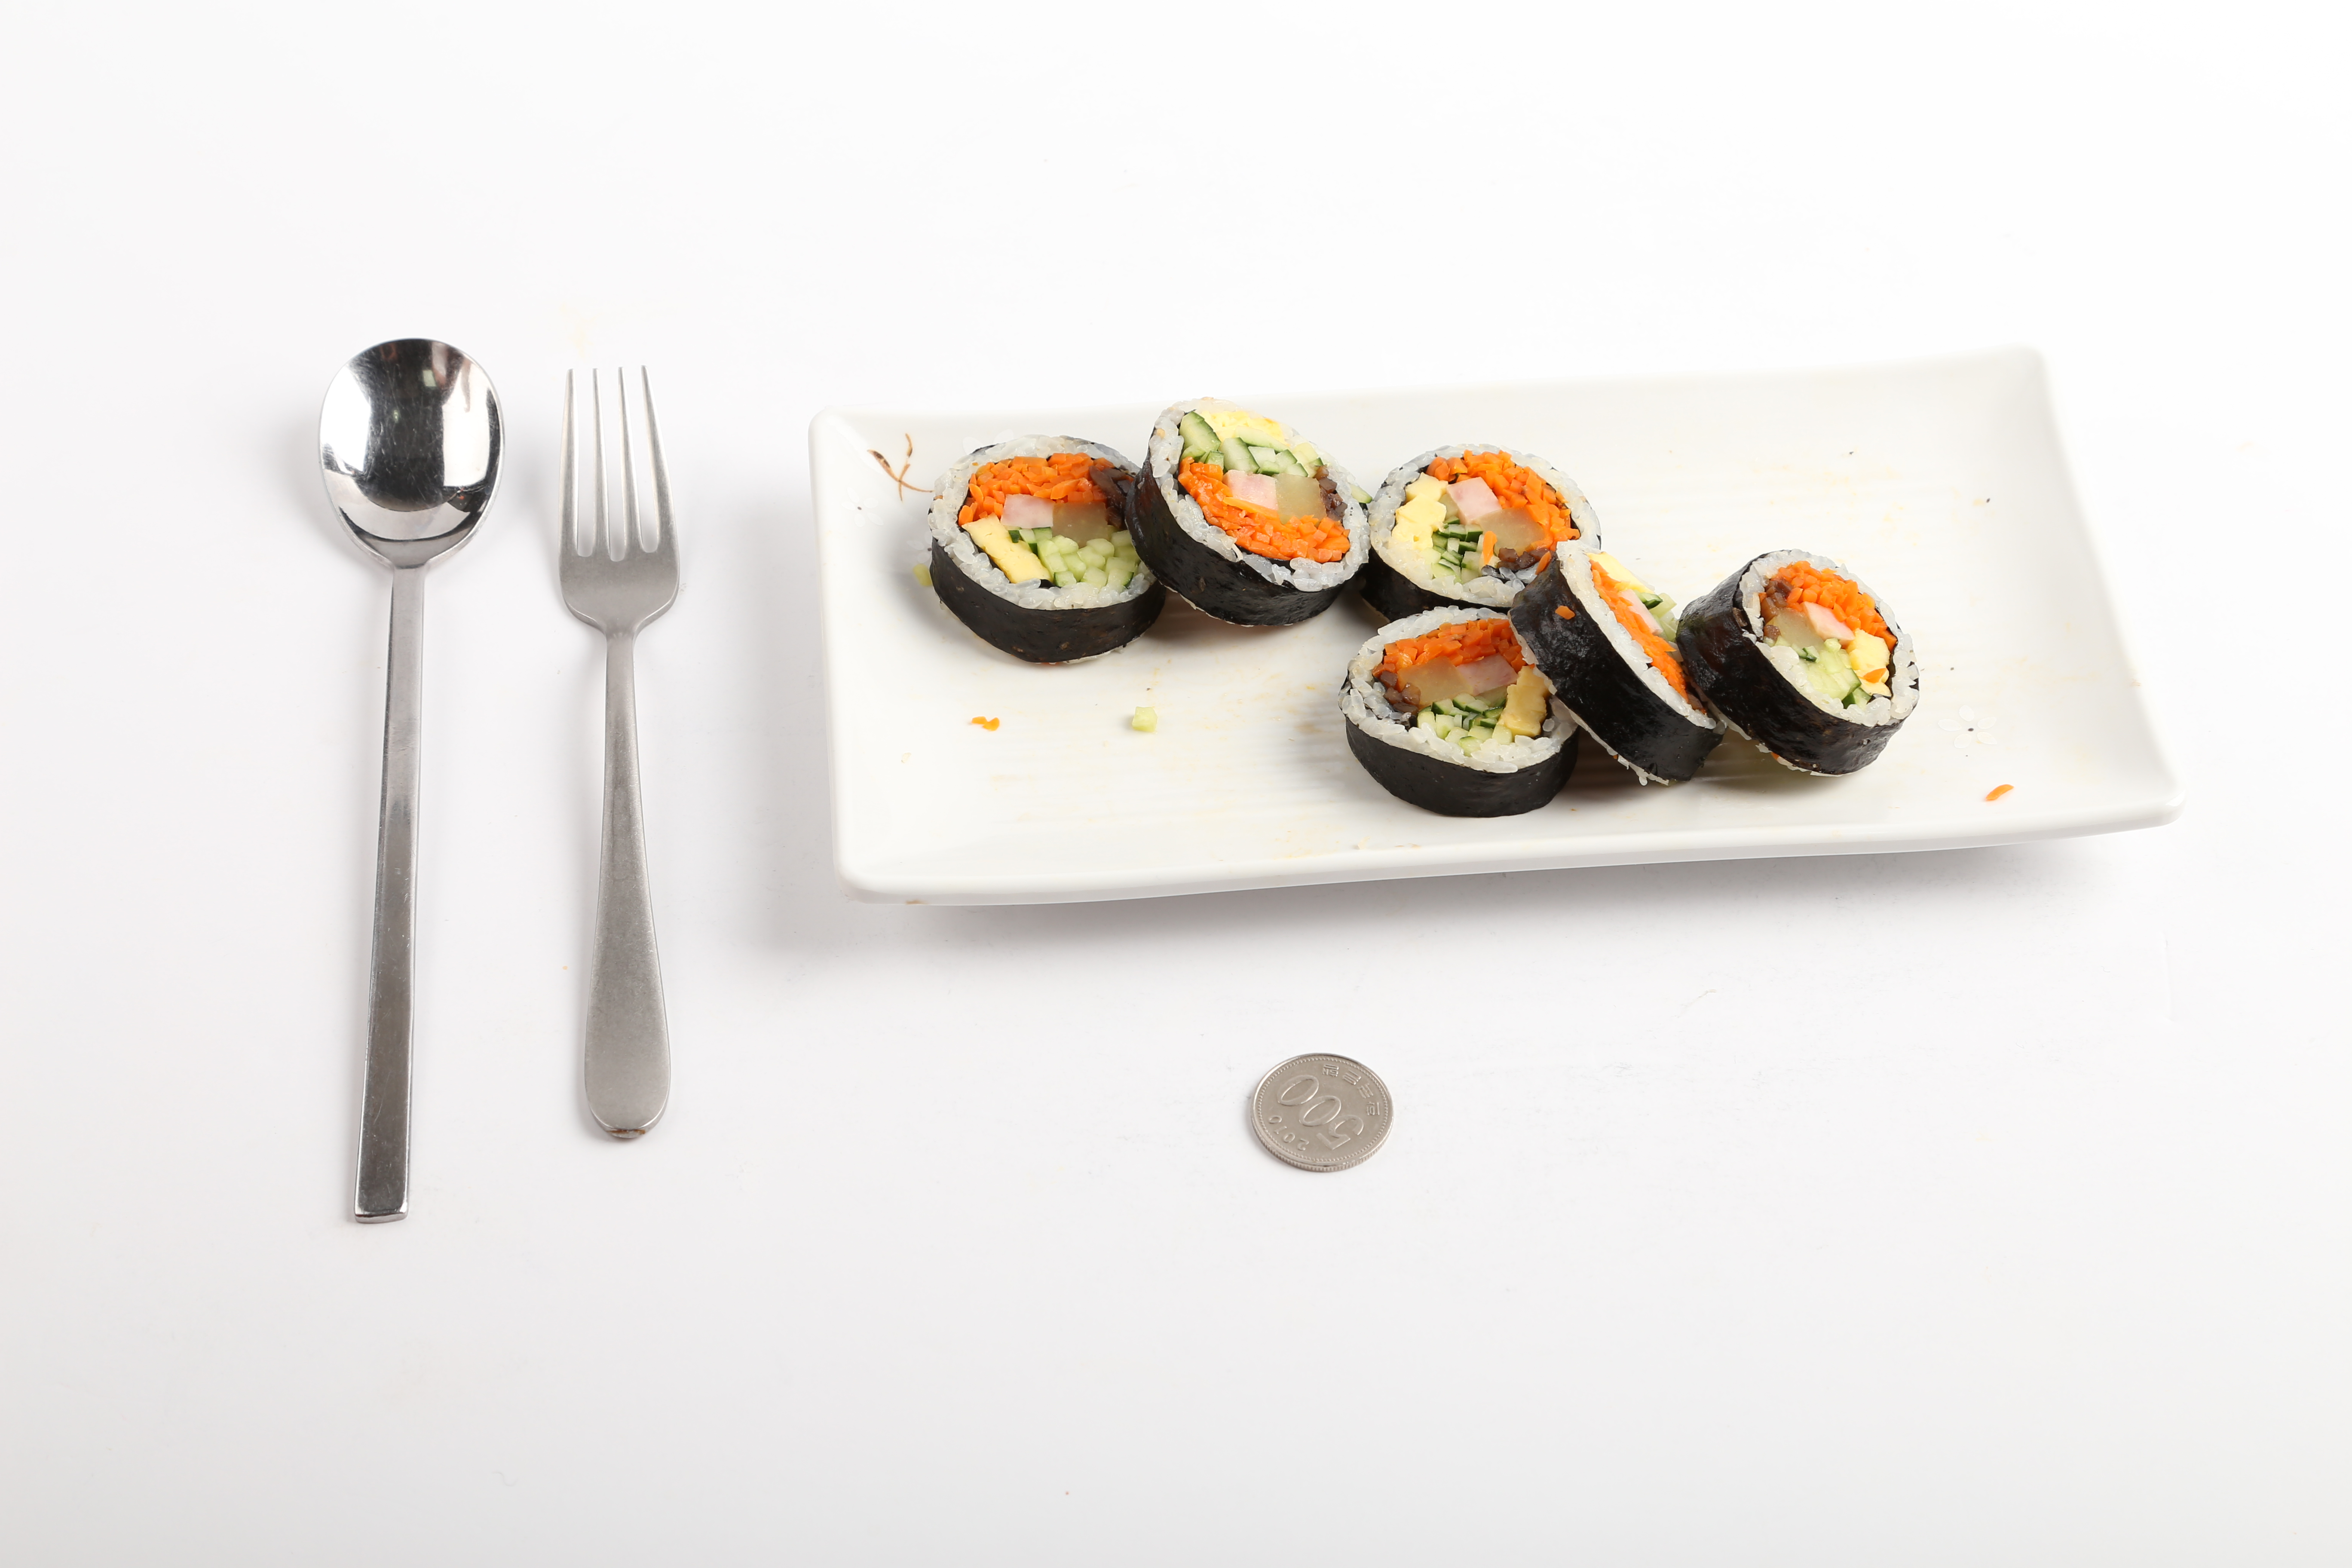dish: (805, 343, 2189, 903)
ref_coin: (1234, 1041, 1402, 1178)
ref_fork: (551, 364, 688, 710)
ref_spoon: (318, 332, 502, 698)
김밥: (927, 392, 1921, 819)
